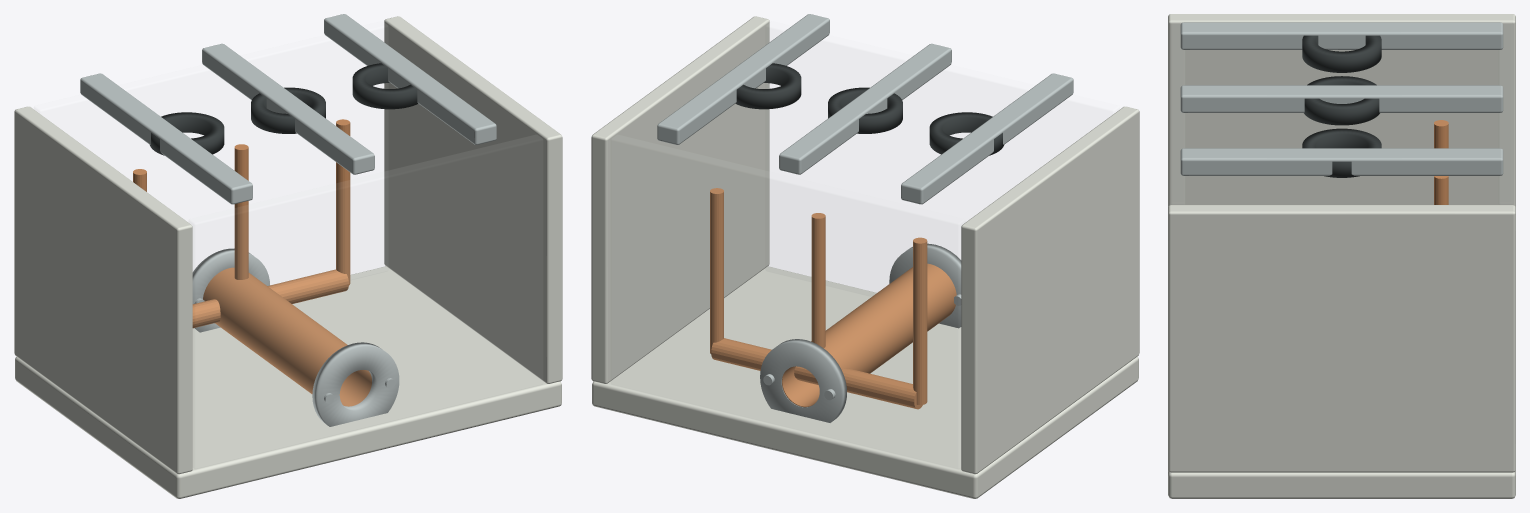
The model's file is generation-ship-hydroponics-generation-ship-hydroponic-4ab532f6__31470.glb.
3 renders of one model, left to right at view 1: azimuth 30°, elevation 25°; view 2: azimuth 150°, elevation 25°; view 3: azimuth 270°, elevation 25°, orthographic. The views are drawn at different scales.
Parts seen in each view (by area): view 1: generation-ship-hydroponics-aeroponic-root-chamber_0, generation-ship-hydroponics-aeroponic-root-chamber_2, generation-ship-hydroponics-aeroponic-root-chamber_4, generation-ship-hydroponics-aeroponic-root-chamber_1, generation-ship-hydroponics-aeroponic-root-chamber_3; view 2: generation-ship-hydroponics-aeroponic-root-chamber_0, generation-ship-hydroponics-aeroponic-root-chamber_2, generation-ship-hydroponics-aeroponic-root-chamber_4, generation-ship-hydroponics-aeroponic-root-chamber_1, generation-ship-hydroponics-aeroponic-root-chamber_3; view 3: generation-ship-hydroponics-aeroponic-root-chamber_0, generation-ship-hydroponics-aeroponic-root-chamber_2, generation-ship-hydroponics-aeroponic-root-chamber_3, generation-ship-hydroponics-aeroponic-root-chamber_4.
Boxes of the visible parts, x1,y1,x2,y2 form: generation-ship-hydroponics-aeroponic-root-chamber_0: (14,16,562,498); generation-ship-hydroponics-aeroponic-root-chamber_2: (80,14,496,426); generation-ship-hydroponics-aeroponic-root-chamber_4: (133,119,371,406); generation-ship-hydroponics-aeroponic-root-chamber_1: (189,171,387,284); generation-ship-hydroponics-aeroponic-root-chamber_3: (150,63,418,155); generation-ship-hydroponics-aeroponic-root-chamber_0: (591,16,1139,498); generation-ship-hydroponics-aeroponic-root-chamber_2: (657,14,1073,422); generation-ship-hydroponics-aeroponic-root-chamber_4: (710,188,956,409); generation-ship-hydroponics-aeroponic-root-chamber_1: (766,171,964,296); generation-ship-hydroponics-aeroponic-root-chamber_3: (735,63,1003,155); generation-ship-hydroponics-aeroponic-root-chamber_0: (1168,14,1515,498); generation-ship-hydroponics-aeroponic-root-chamber_2: (1180,22,1503,175); generation-ship-hydroponics-aeroponic-root-chamber_3: (1302,35,1381,177); generation-ship-hydroponics-aeroponic-root-chamber_4: (1434,120,1448,204).
Size of the model in its own units: 0.95 by 0.69 by 0.6999.
